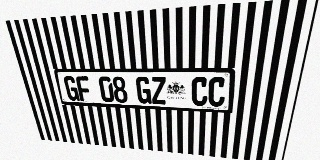0: (98, 76, 114, 102)
8: (111, 76, 128, 103)
C: (208, 77, 226, 107), (191, 77, 208, 106)
F: (75, 76, 92, 101)
G: (135, 77, 152, 104), (63, 76, 80, 101)
Z: (150, 77, 166, 104)
